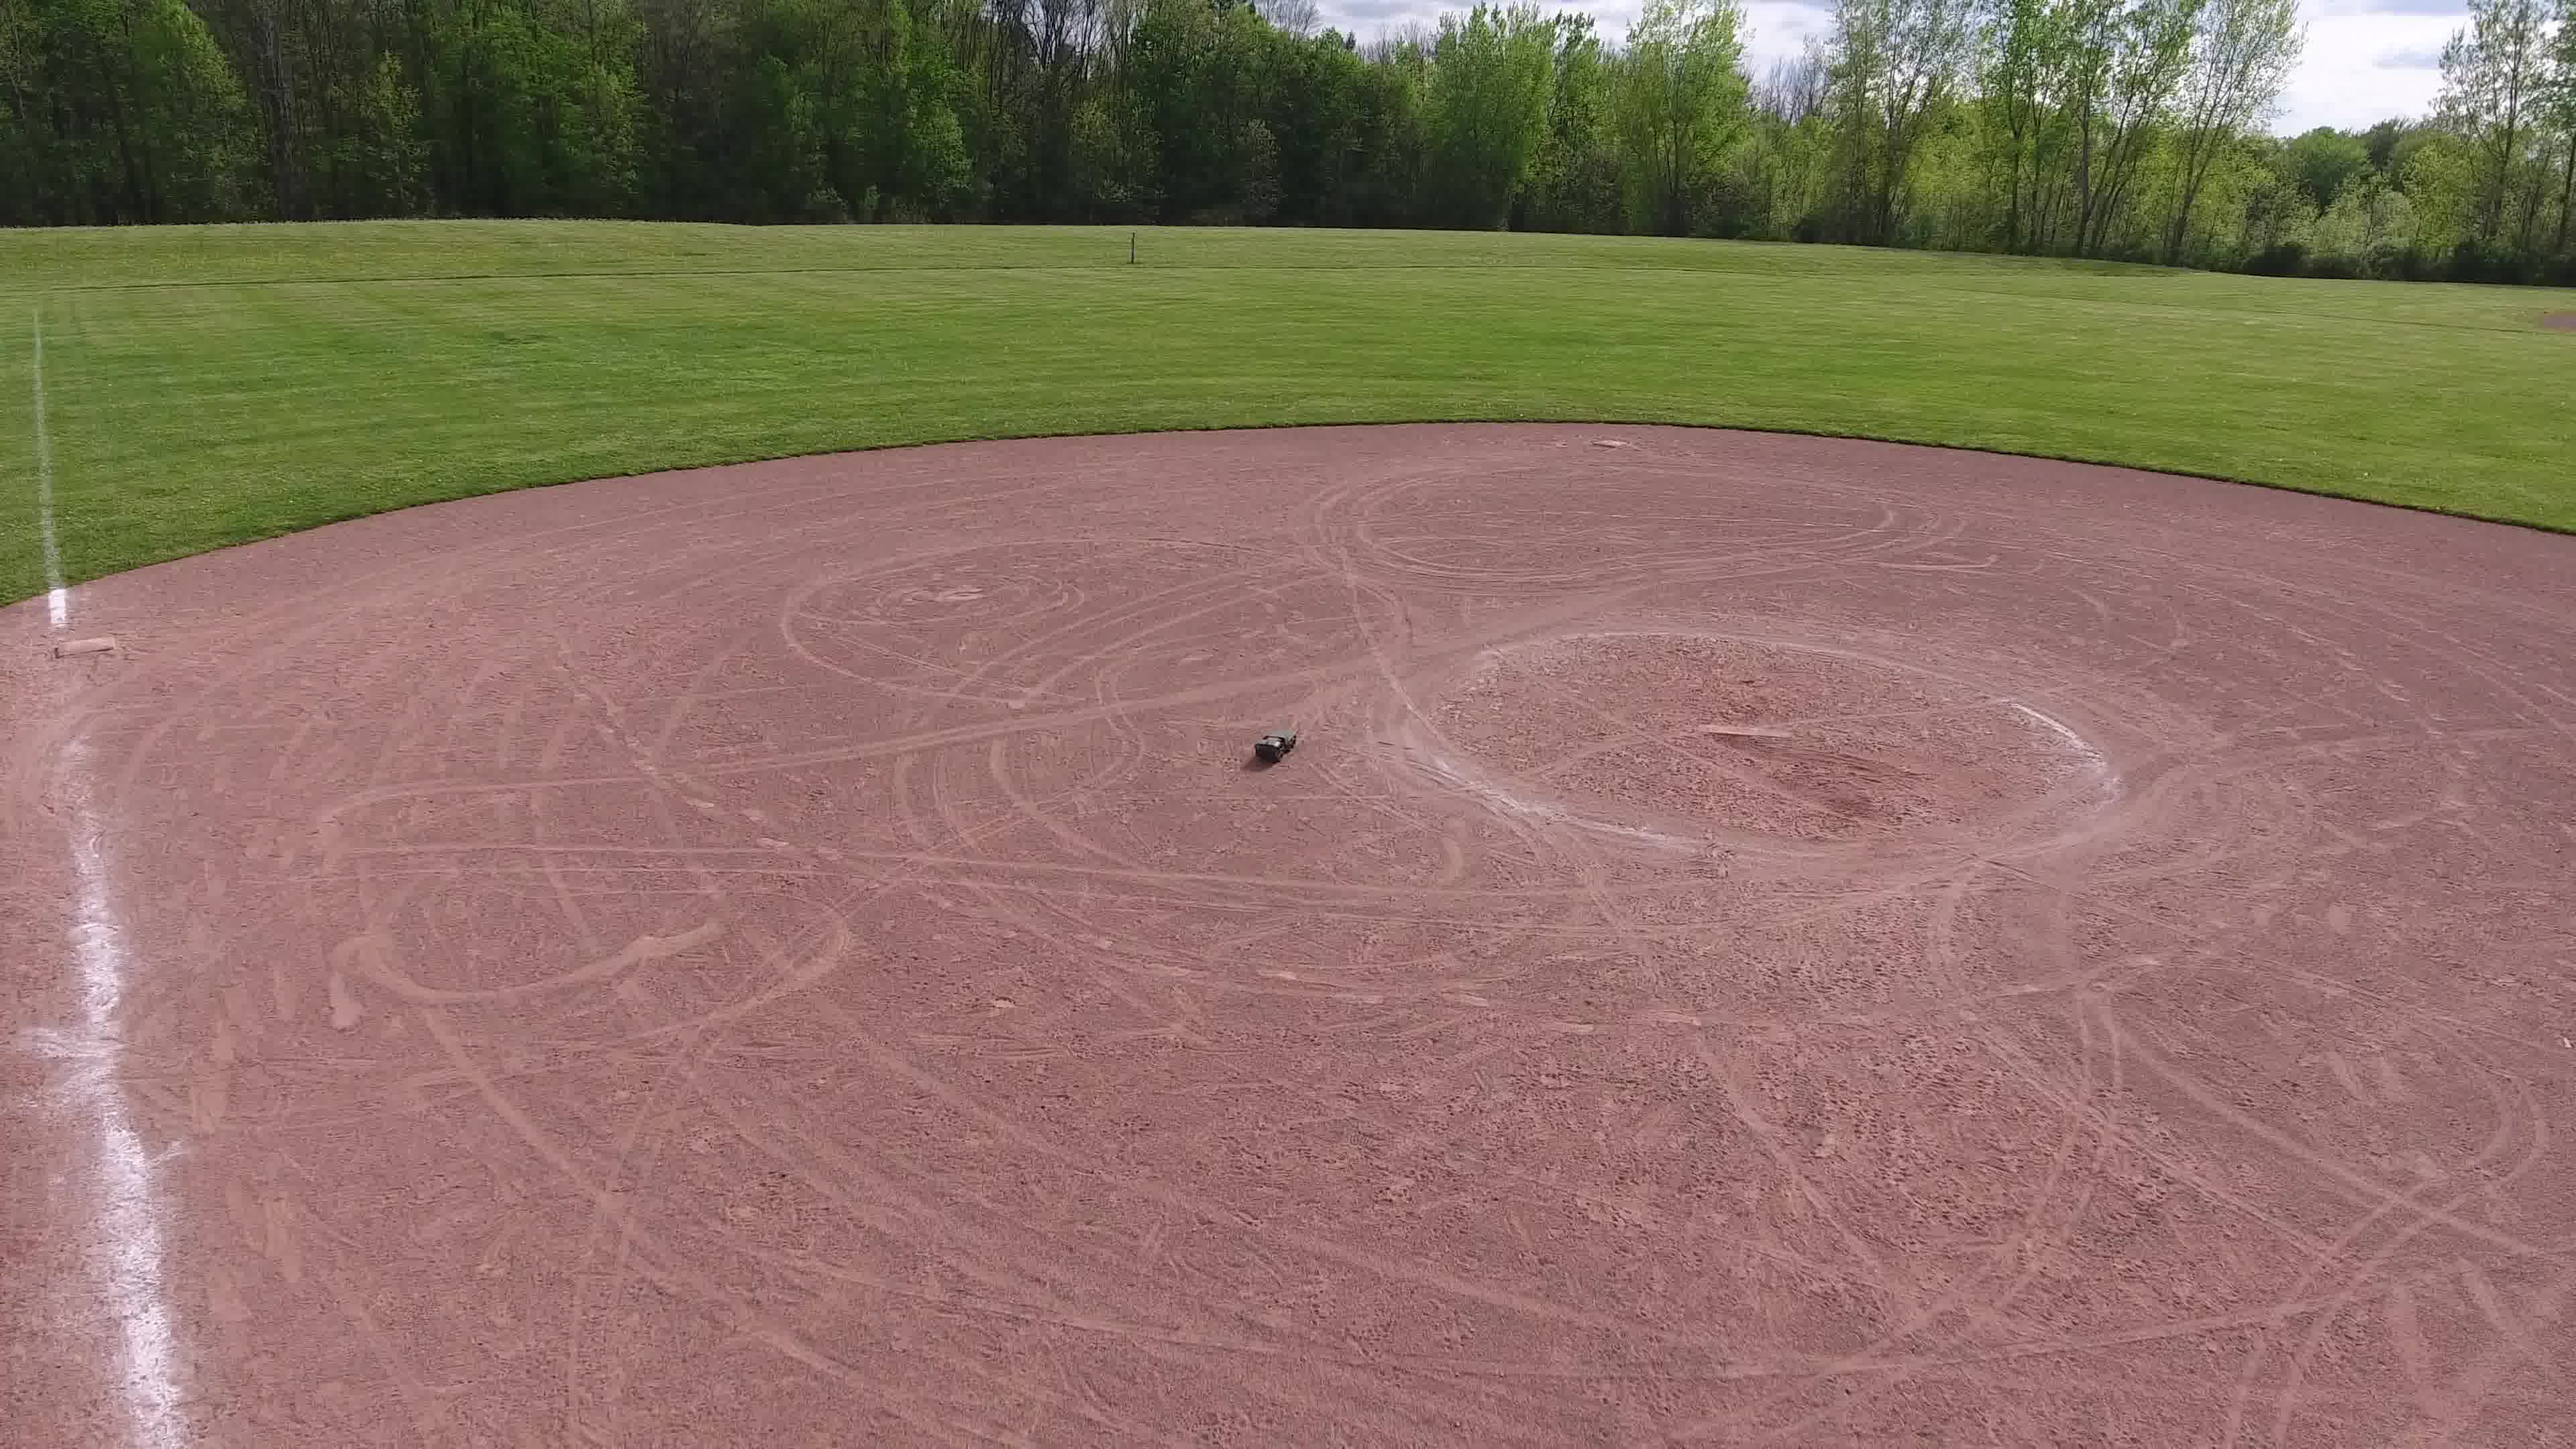transporter9: (1253, 725, 1300, 763)
